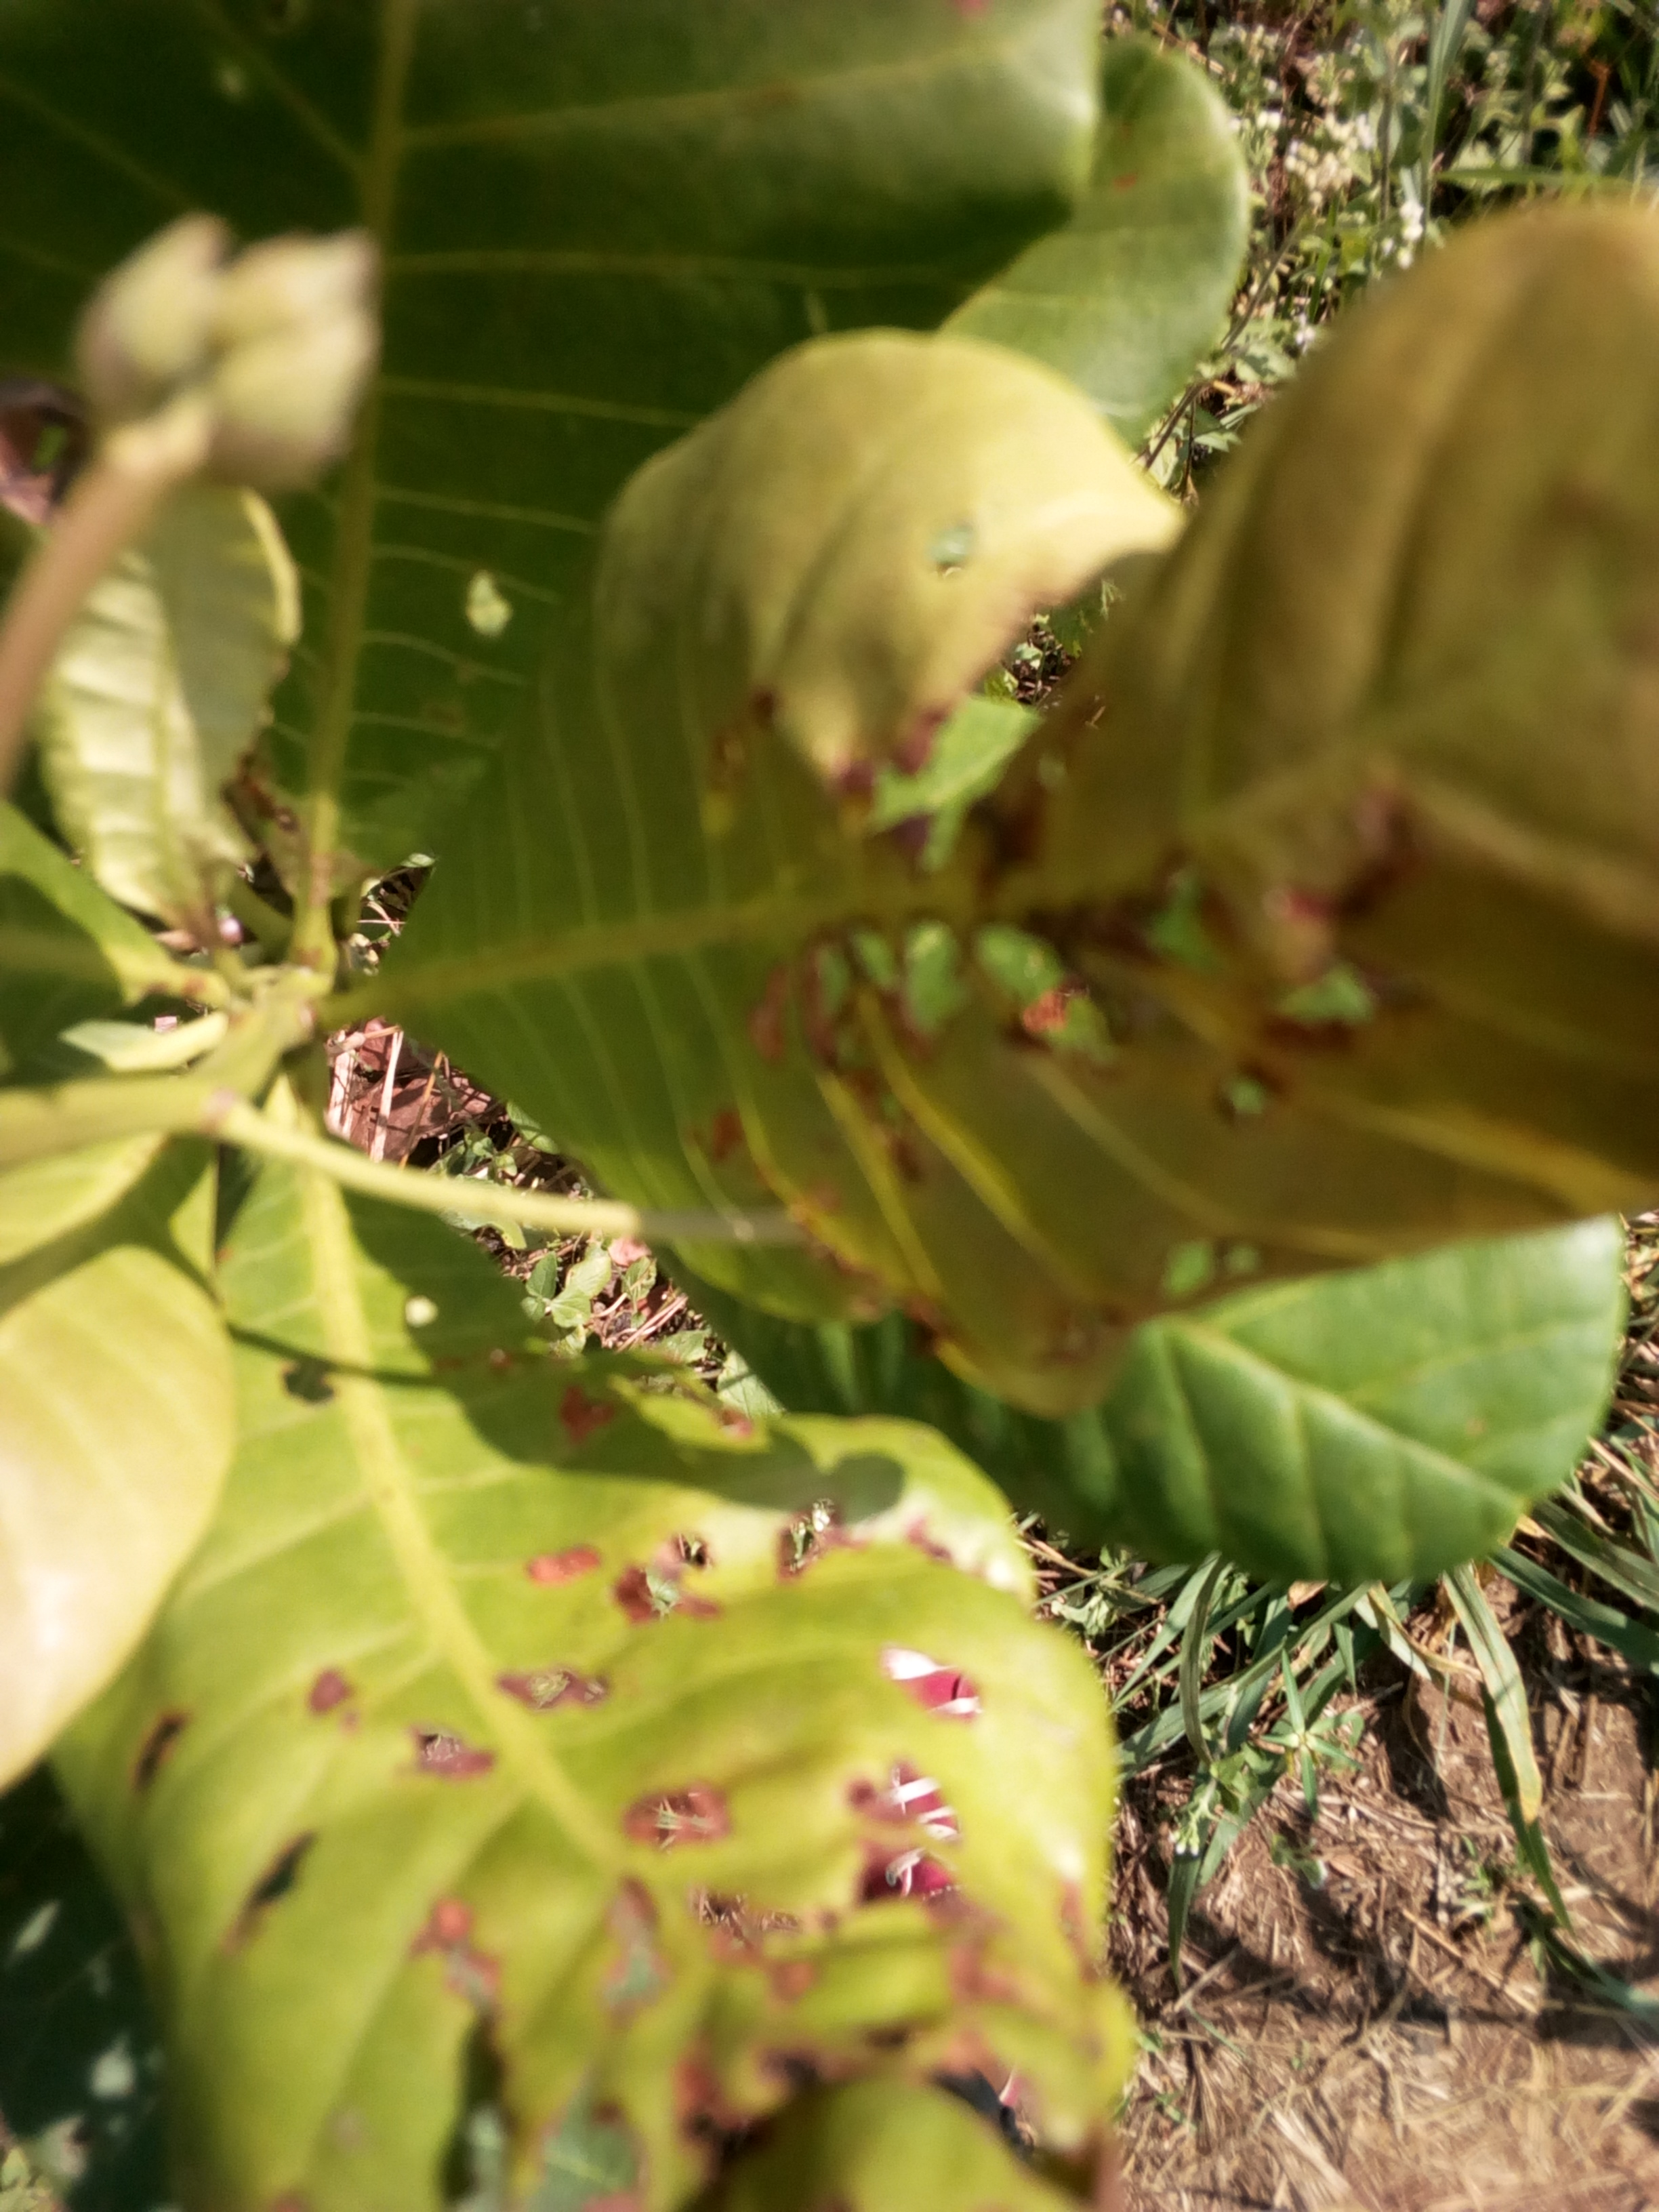Pestalotiose: (593, 543, 1514, 1310), (206, 1522, 1101, 2196)
